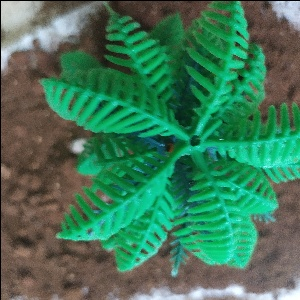plant: (43, 7, 300, 266)
